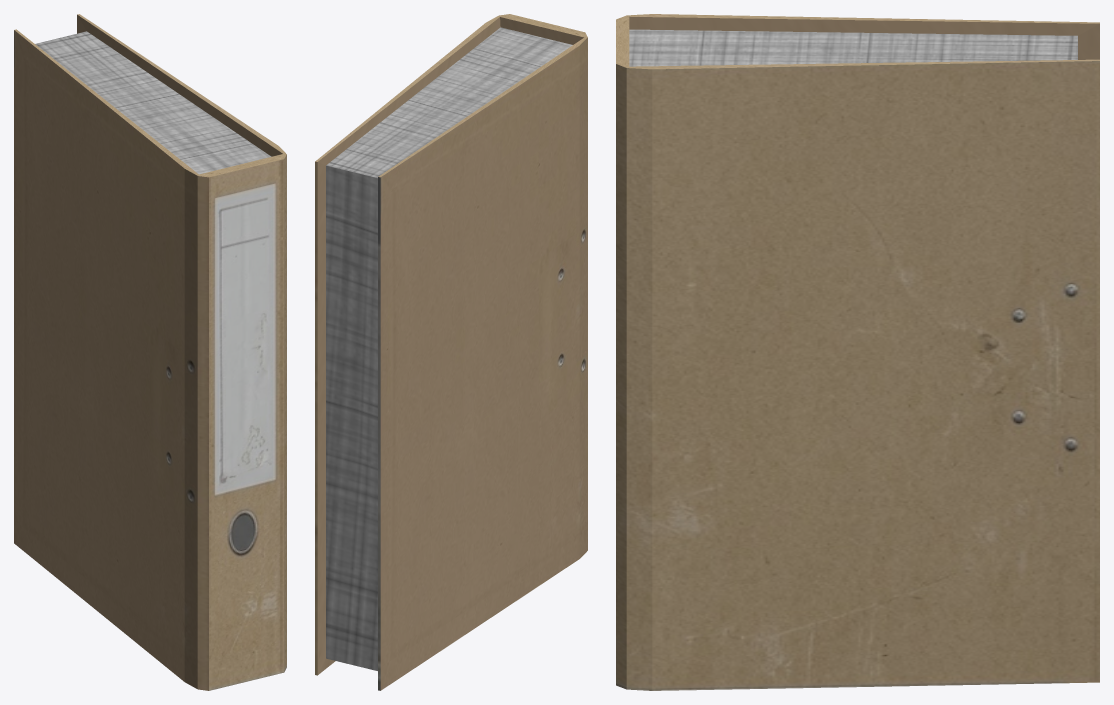
File: document_file_binder.glb
3 views of the same model, side by side, from view 1: azimuth 30°, elevation 25°; view 2: azimuth 150°, elevation 25°; view 3: azimuth 270°, elevation 25° (orthographic). The views are drawn at different scales.
Parts seen in each view (by area): view 1: Cube_0; view 2: Cube_0; view 3: Cube_0.
Part boxes in pixels (x1,y1,x2,y2): Cube_0: (14, 14, 286, 690); Cube_0: (315, 14, 587, 690); Cube_0: (616, 14, 1099, 690).
Bounding box in the file's own units: 0.6223 × 3.25 × 2.3.
Materials: 1 (1 with a texture image).
